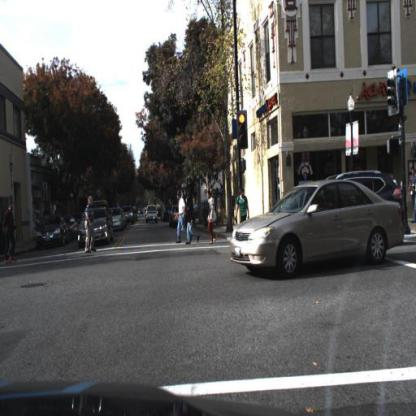car: (228, 181, 404, 273), (349, 171, 408, 228), (77, 207, 115, 251), (38, 216, 70, 248), (172, 203, 190, 228), (114, 209, 126, 230)
pedestrian: (6, 201, 16, 265), (85, 196, 96, 251)
trafficLight: (238, 111, 249, 148)
